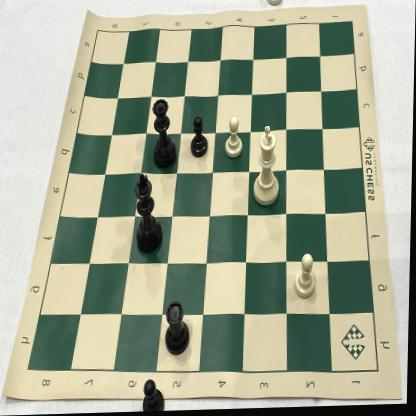black-king: (133, 172, 167, 257)
black-pawn: (188, 114, 213, 160)
black-queen: (149, 96, 181, 176)
black-rook: (164, 298, 193, 359)
white-king: (252, 124, 287, 211)
white-pawn: (291, 253, 322, 303), (223, 117, 247, 161)
